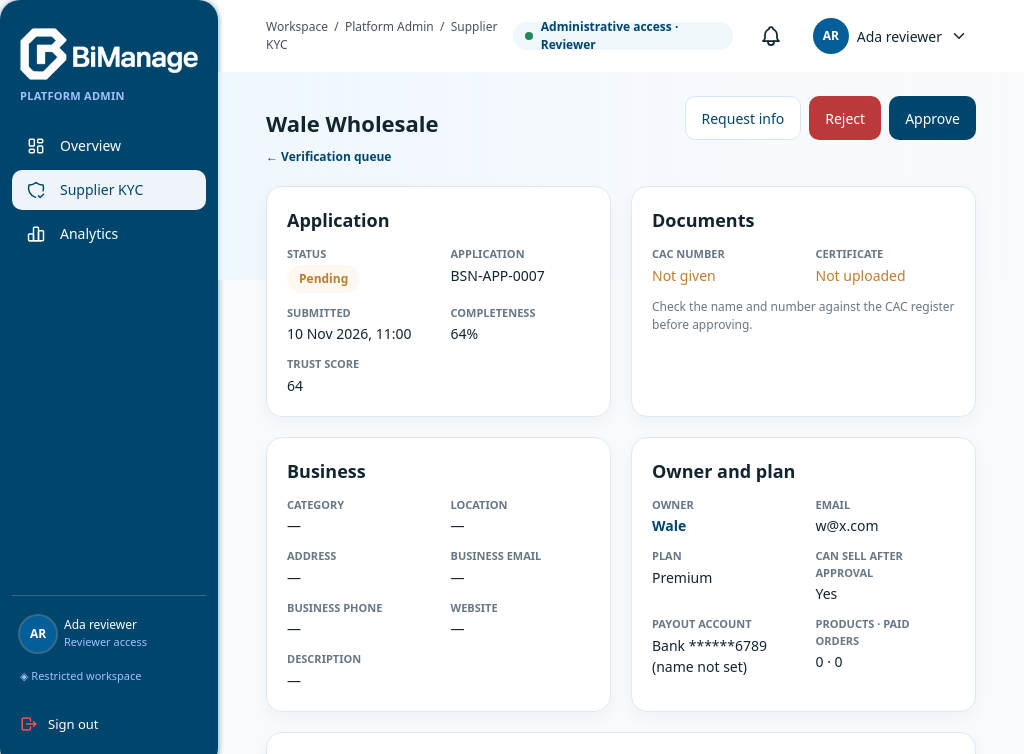
Scenario: supplier verification › request more information with a checklist
Expected: the text "Not given" is shown, [652,266,716,284]
Step 1. Click the button "Request info" → (743, 118), box [684,96,801,140]
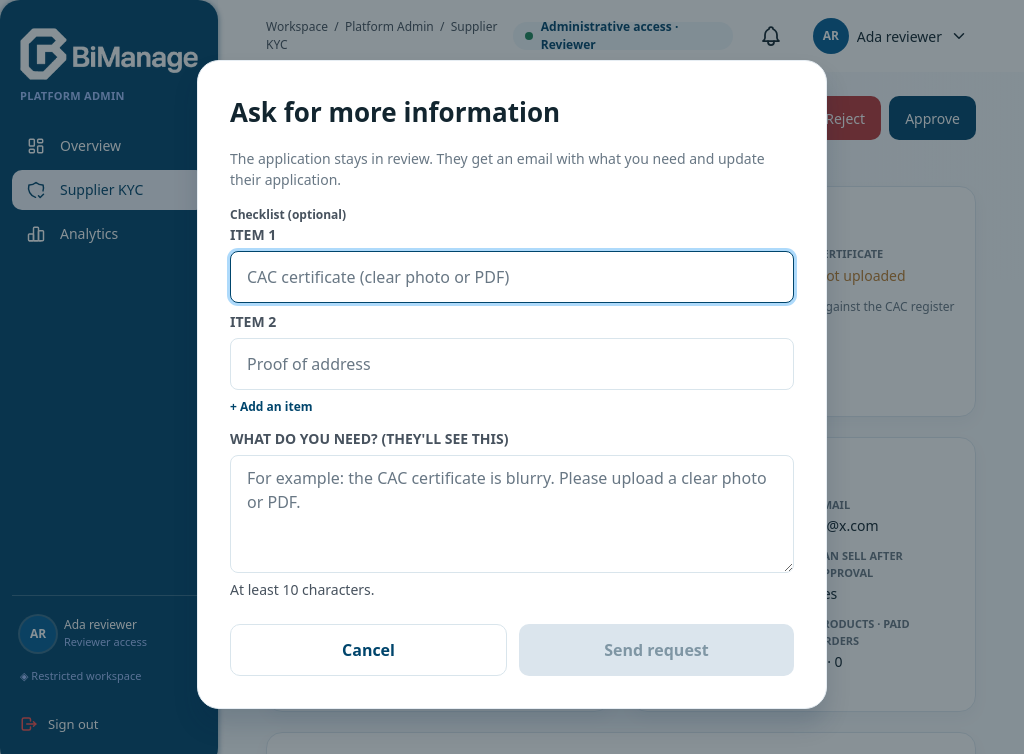
Step 2. Type "Please add your CAC number." into the text box labelled "What do you need? (they'll see this)" → (512, 514), box [230,454,794,572]
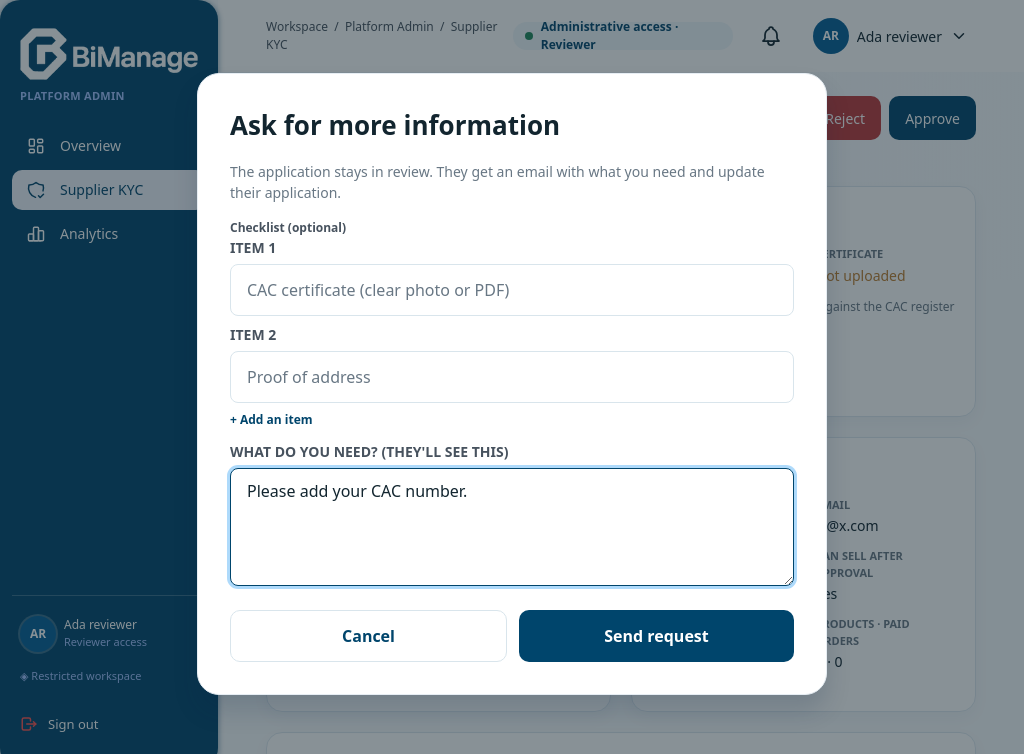
Step 3. Type "CAC number" into the field labelled "Item 1" → (517, 290), box [247,265,787,315]
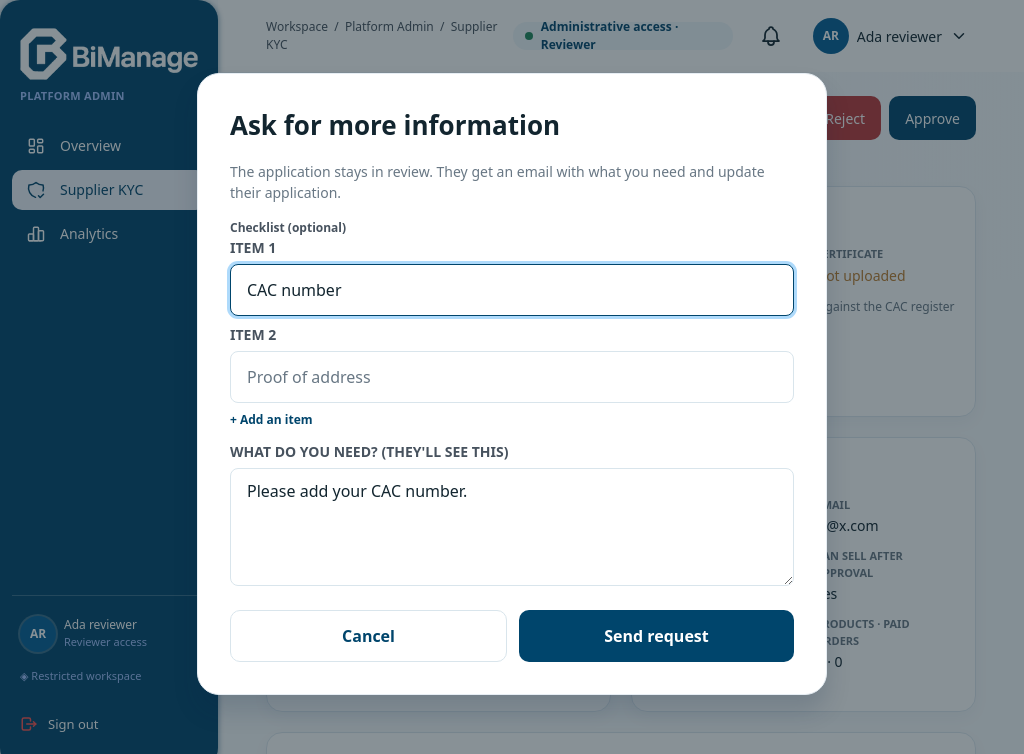
Step 4. Click the button "Send request" → (656, 636), box [519,610,794,662]
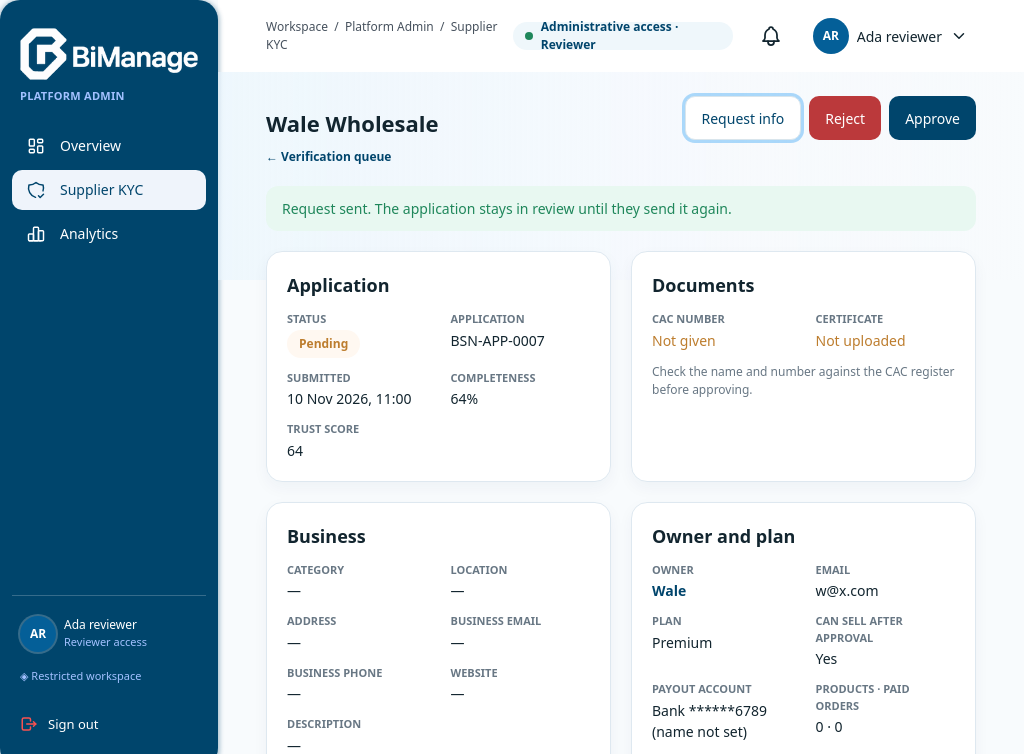
Now the text "Request sent. The application stays in review until they send it again." is shown, box [266,186,976,231]
